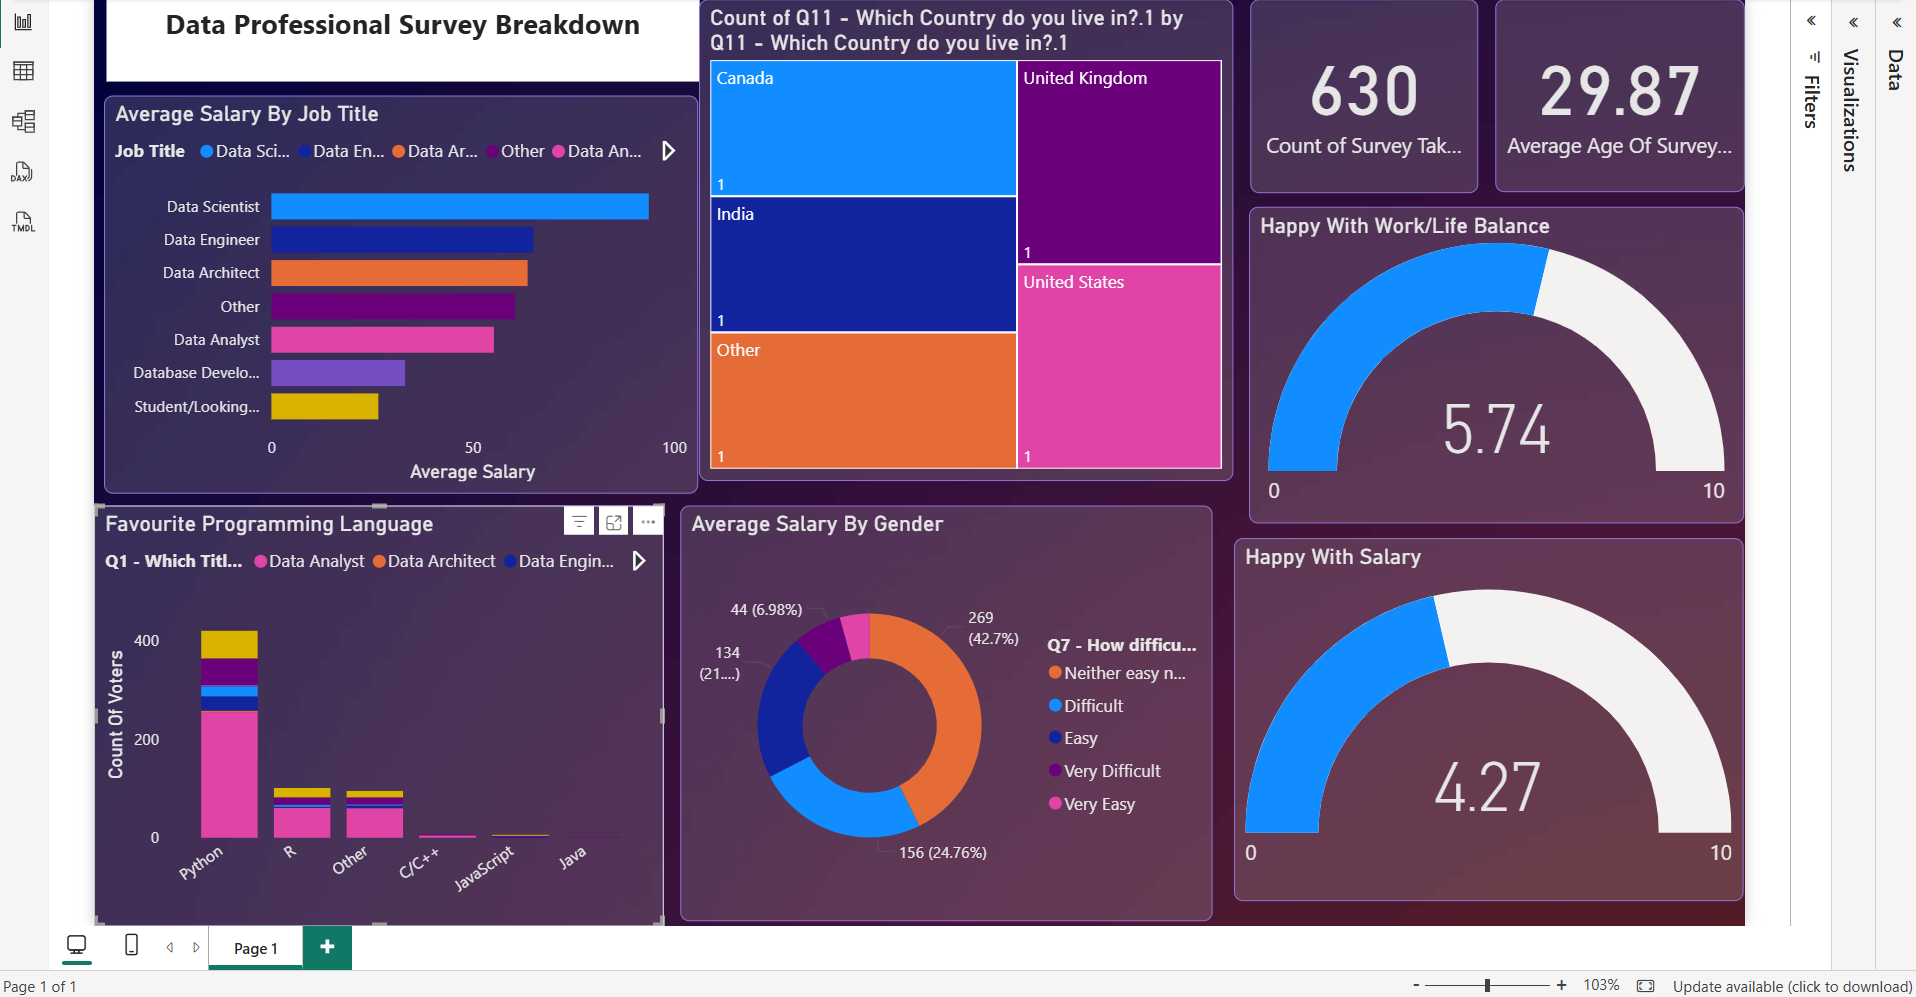

The dashboard page shown, as its layout file describes it:
{"tool":"powerbi","page":{"name":"Page 1","canvas":[1280,720],"ordinal":0},"visuals":[{"type":"textbox","box":[9.6,0,459.7,64.5],"z":0},{"type":"card","fields":{"Values":["Count(Data Professional Survey.Unique ID)"]},"box":[896.5,1.2,176.7,150],"z":1000},{"type":"card","fields":{"Values":["Avg(Data Professional Survey.Q10 - Current Age)"]},"box":[1086.8,1.4,193.5,149.6],"z":2000},{"type":"barChart","title":"Average Salary By Job Title","fields":{"Category":["Data Professional Survey.Q1 - Which Title Best Fits your Current Role?.1"],"Y":["Avg(Data Professional Survey.Average Salary)"],"Series":["Data Professional Survey.Q1 - Which Title Best Fits your Current Role?.1"]},"box":[8.2,75.5,461.1,308.7],"z":3000},{"type":"columnChart","title":"Favourite Programming Language","fields":{"Category":["Data Professional Survey.Q5 - Favorite Programming Language.1"],"Y":["CountNonNull(Data Professional Survey.Unique ID)"],"Series":["Data Professional Survey.Q1 - Which Title Best Fits your Current Role?.1"]},"box":[0,393.8,441.9,326.6],"z":4000},{"type":"treemap","fields":{"Group":["Data Professional Survey.Q11 - Which Country do you live in?.1"],"Values":["Count(Data Professional Survey.Q11 - Which Country do you live in?.1)"]},"box":[469.3,1.4,414.4,373.2],"z":5000},{"type":"gauge","title":" Happy With Work/Life Balance","fields":{"Y":["Avg(Data Professional Survey.Q6 - How Happy are you in your Current Position with the following? (Work/Life Balance))"],"MinValue":["Min(Data Professional Survey.Q6 - How Happy are you in your Current Position with the following? (Work/Life Balance))1"],"MaxValue":["Max(Data Professional Survey.Q6 - How Happy are you in your Current Position with the following? (Work/Life Balance))2"]},"box":[896.1,161.9,384.2,245.6],"z":6000},{"type":"gauge","title":"Happy With Salary","fields":{"Y":["Avg(Data Professional Survey.Q6 - How Happy are you in your Current Position with the following? (Salary))"],"MinValue":["Min(Data Professional Survey.Q6 - How Happy are you in your Current Position with the following? (Salary))"],"MaxValue":["Max(Data Professional Survey.Q6 - How Happy are you in your Current Position with the following? (Salary))"]},"box":[883.7,418.5,395.2,281.3],"z":7000},{"type":"donutChart","title":"Average Salary By Gender","fields":{"Category":["Data Professional Survey.Q7 - How difficult was it for you to break into Data?"],"Y":["CountNonNull(Data Professional Survey.Q7 - How difficult was it for you to break into Data?)"]},"box":[454.2,393.8,413,322.5],"z":8000}]}

Visuals, with their boxes on the page's 1280x720 design canvas (x1, y1, x2, y2). These are canvas units, not pixel positions in the 1916x997 screenshot, which may show the page scaled, cropped or inside an application window:
textbox: {"left": 10, "top": 0, "right": 469, "bottom": 64}
card - Count(Data Professional Survey.Unique ID): {"left": 896, "top": 1, "right": 1073, "bottom": 151}
card - Avg(Data Professional Survey.Q10 - Current Age): {"left": 1087, "top": 1, "right": 1280, "bottom": 151}
"Average Salary By Job Title" barChart: {"left": 8, "top": 76, "right": 469, "bottom": 384}
"Favourite Programming Language" columnChart: {"left": 0, "top": 394, "right": 442, "bottom": 720}
treemap - Data Professional Survey.Q11 - Which Country do you live in?.1 x Count(Data Professional Survey.Q11 - Which Country do you live in?.1): {"left": 469, "top": 1, "right": 884, "bottom": 375}
" Happy With Work/Life Balance" gauge: {"left": 896, "top": 162, "right": 1280, "bottom": 408}
"Happy With Salary" gauge: {"left": 884, "top": 418, "right": 1279, "bottom": 700}
"Average Salary By Gender" donutChart: {"left": 454, "top": 394, "right": 867, "bottom": 716}
